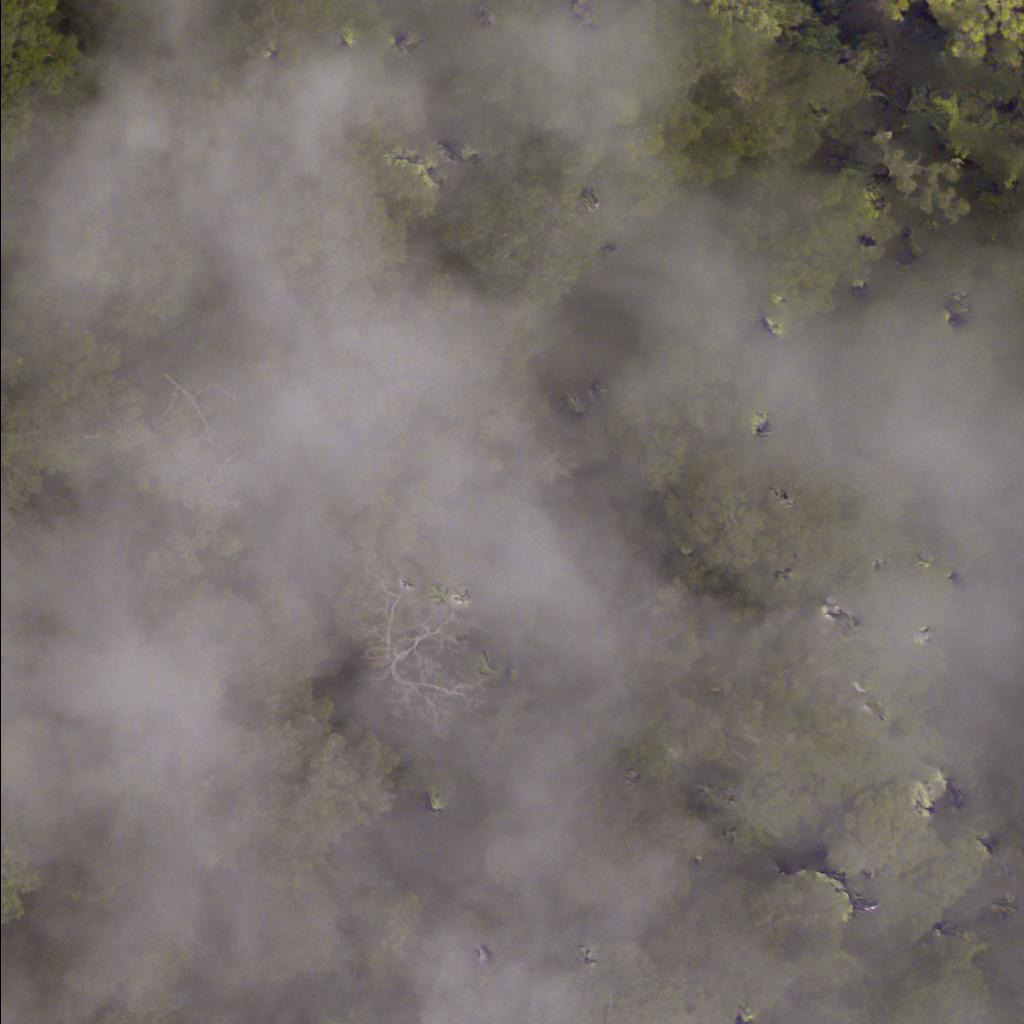crown: (0, 0, 104, 180), (893, 0, 1023, 44), (1004, 84, 1023, 148), (510, 0, 561, 4)
